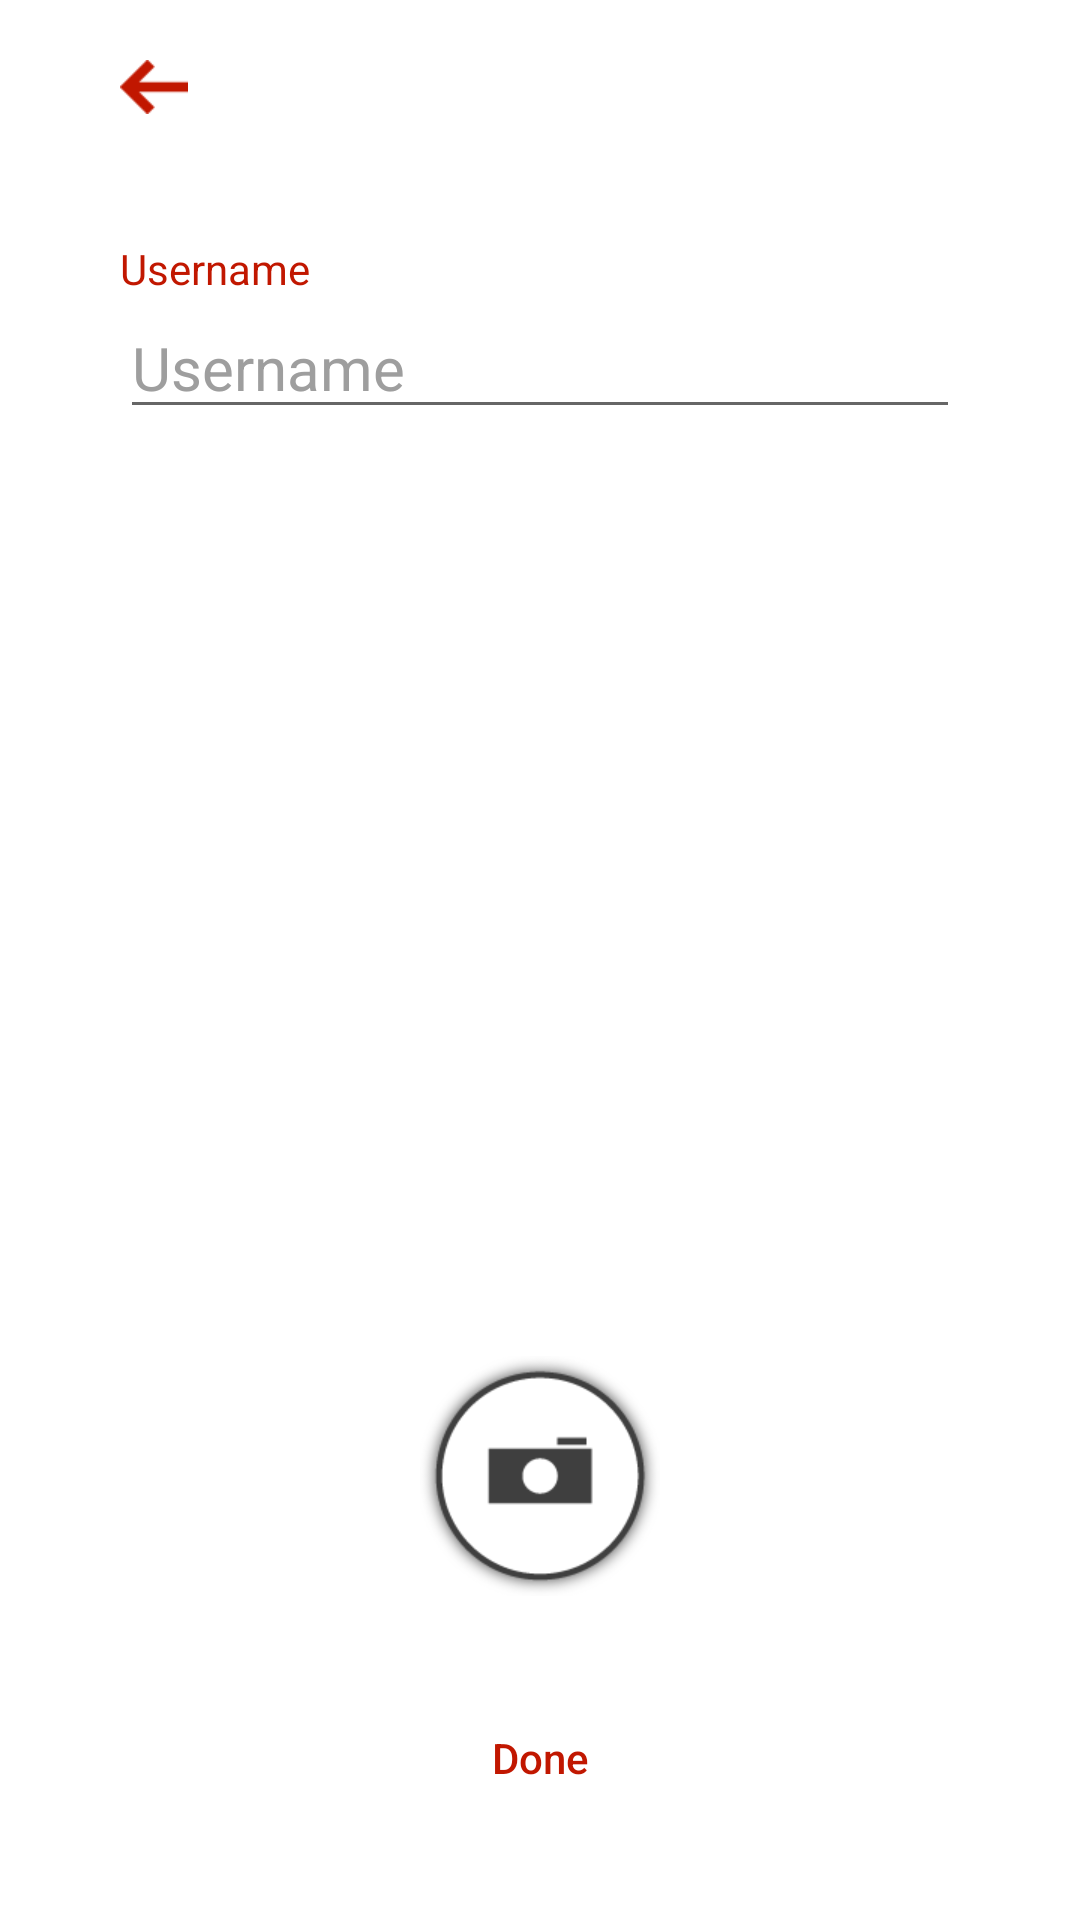

Named icons in this screenshot (1080x1920) and their bounding boxes, (x1, y1, x2, y2):
back to map list: (120, 60, 188, 114)
camera: (428, 1364, 652, 1588)
